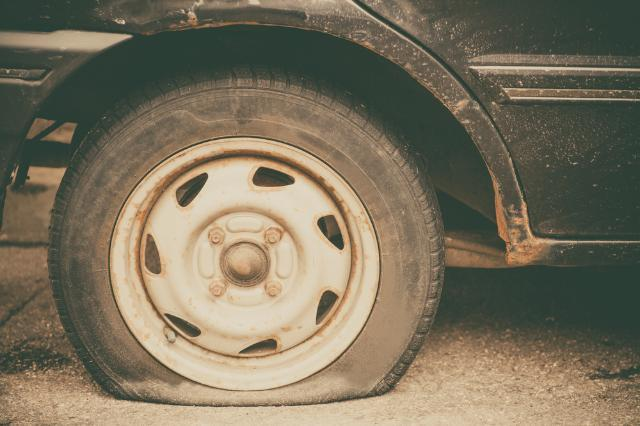tire flat: (47, 60, 447, 408)
